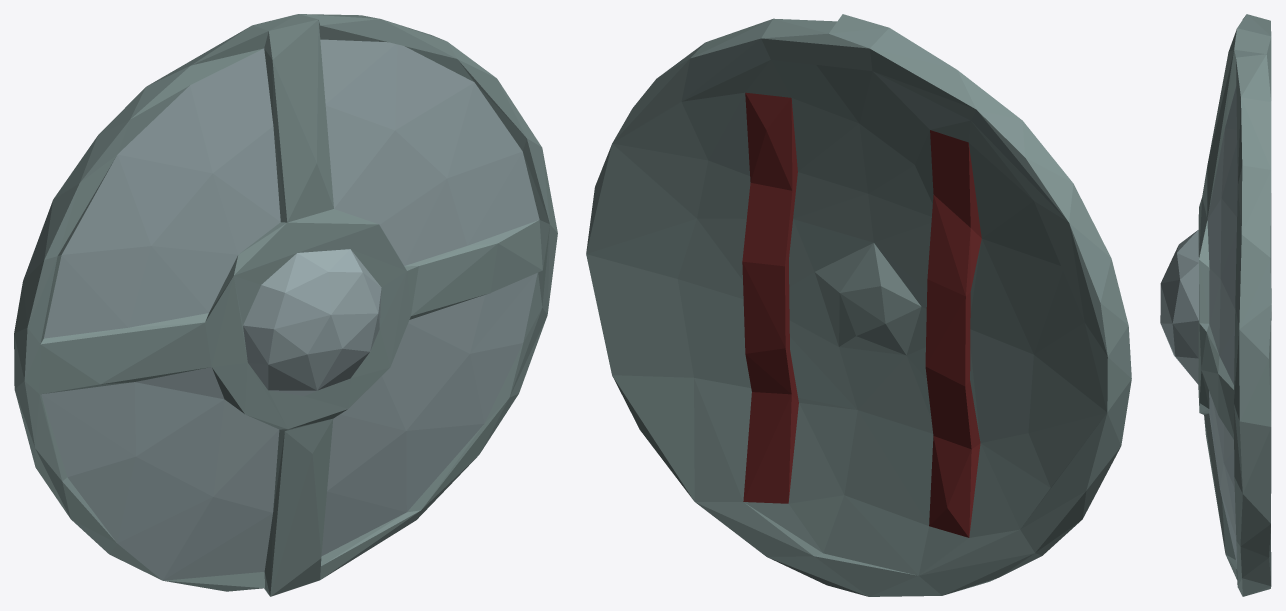
File: MDungeon_Shield_02.FBX
3 renders of one model, left to right at view 1: azimuth 30°, elevation 25°; view 2: azimuth 150°, elevation 25°; view 3: azimuth 270°, elevation 25°, orthographic. The views are drawn at different scales.
Parts seen in each view (by area): view 1: MDungeon_Shield_02_LOD0; view 2: MDungeon_Shield_02_LOD0; view 3: MDungeon_Shield_02_LOD0.
Part boxes in pixels (x1,y1,x2,y2): MDungeon_Shield_02_LOD0: (14, 14, 557, 596); MDungeon_Shield_02_LOD0: (586, 14, 1131, 596); MDungeon_Shield_02_LOD0: (1160, 14, 1271, 596).
Bounding box in the file's own units: 1.02 × 1.03 × 0.1949.
Materials: 1 (1 with a texture image).
